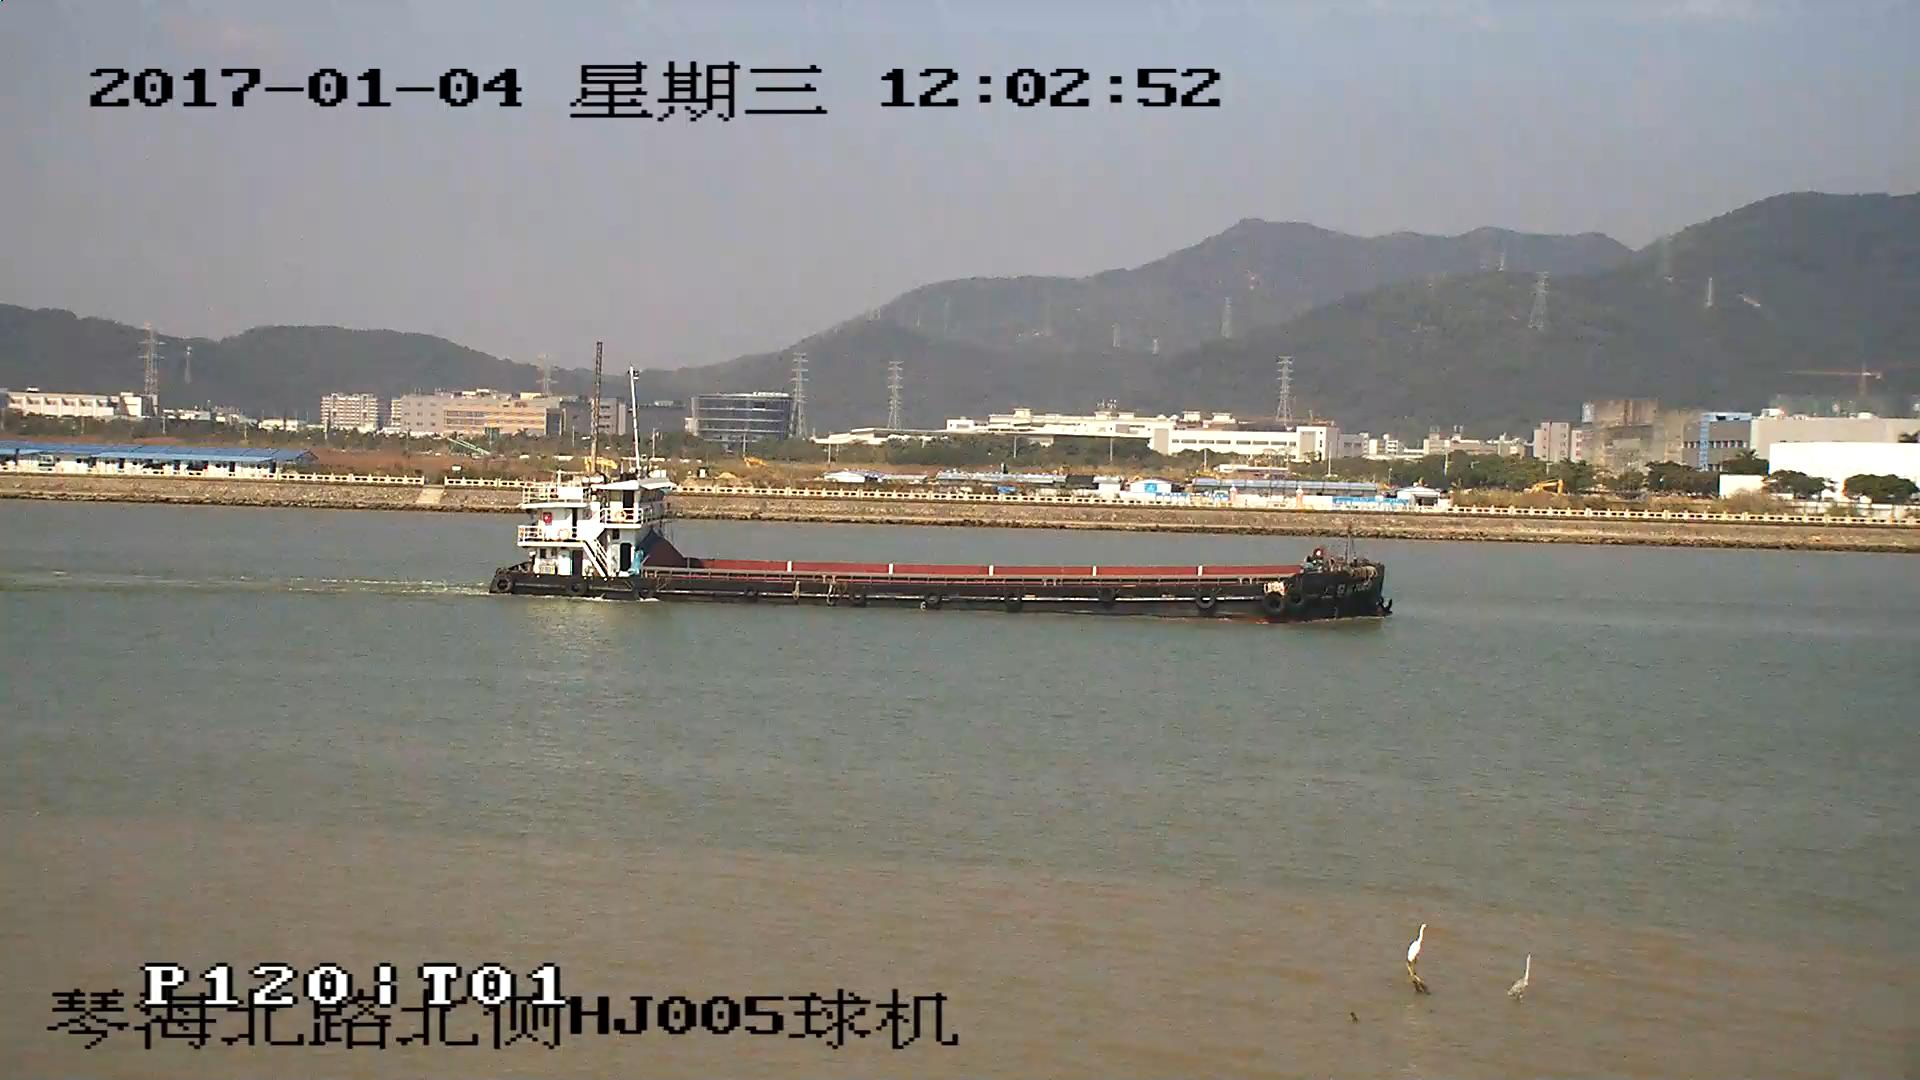general cargo ship: (488, 481, 1397, 620)
